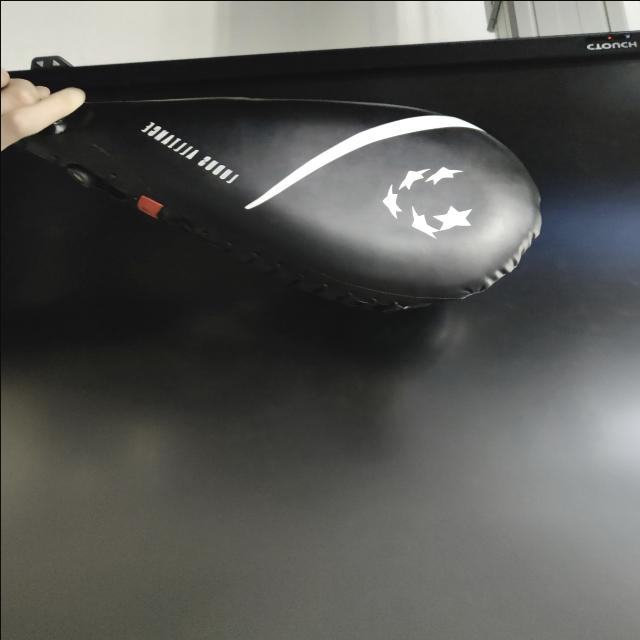paddle: (16, 92, 544, 313)
